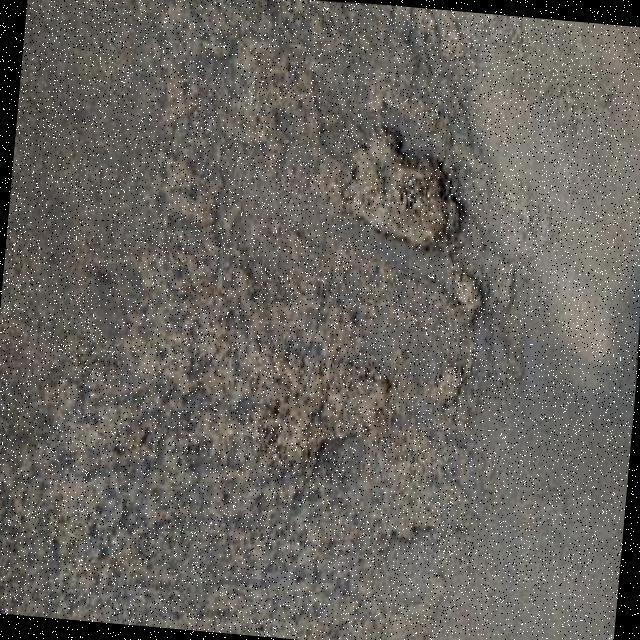Pothole: (252, 340, 385, 486), (330, 118, 462, 254), (444, 262, 487, 326), (427, 365, 465, 411)
